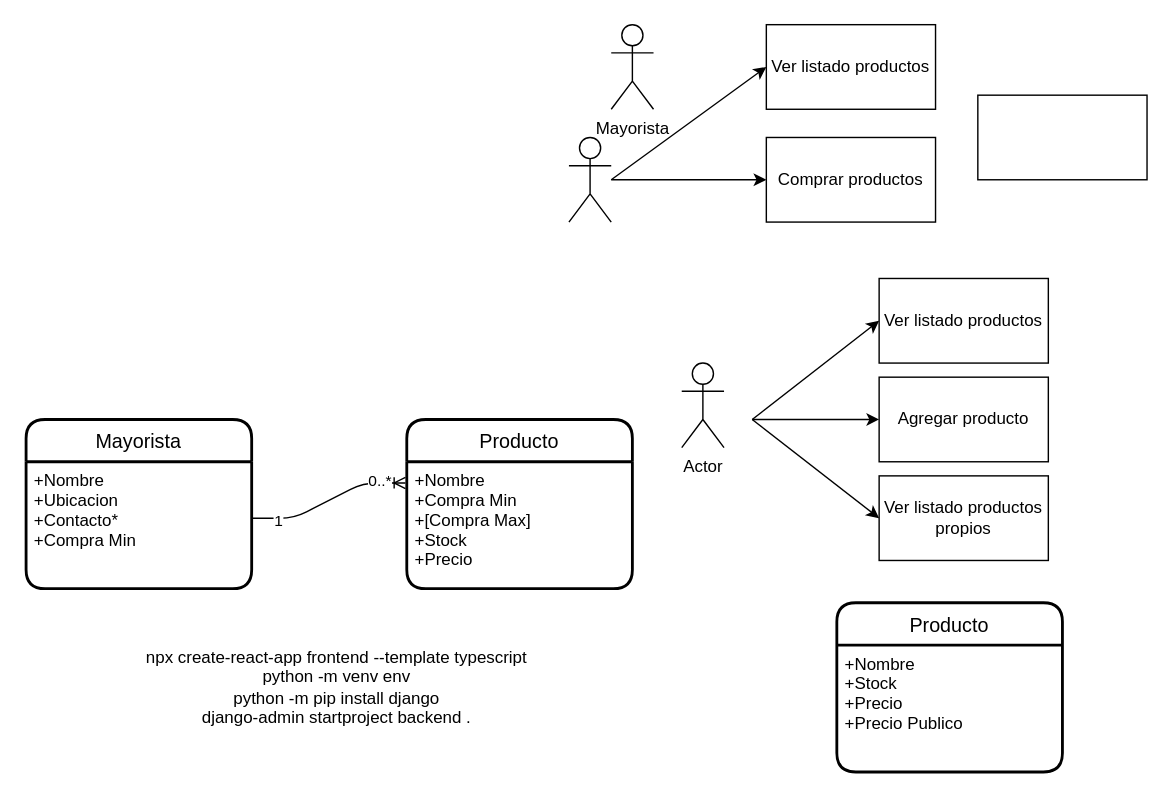
Image size: 1172x798. Some labels were removed from this diagram. Each missing label, with the box of its shape:
Agregar en carrito: (976, 94, 1147, 180)
Minorista: (568, 136, 611, 222)
